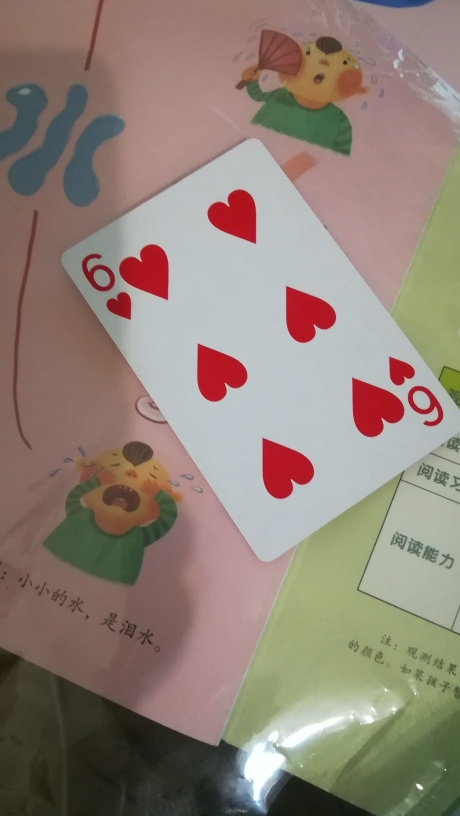hx 6: (56, 129, 455, 563)
